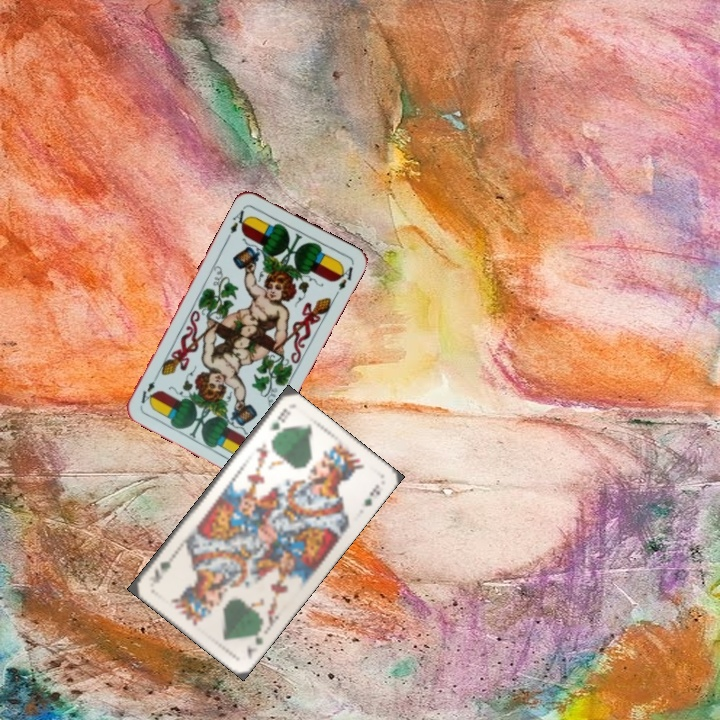EA: (226, 203, 252, 236)
GK: (242, 623, 266, 661), (267, 404, 294, 434)
